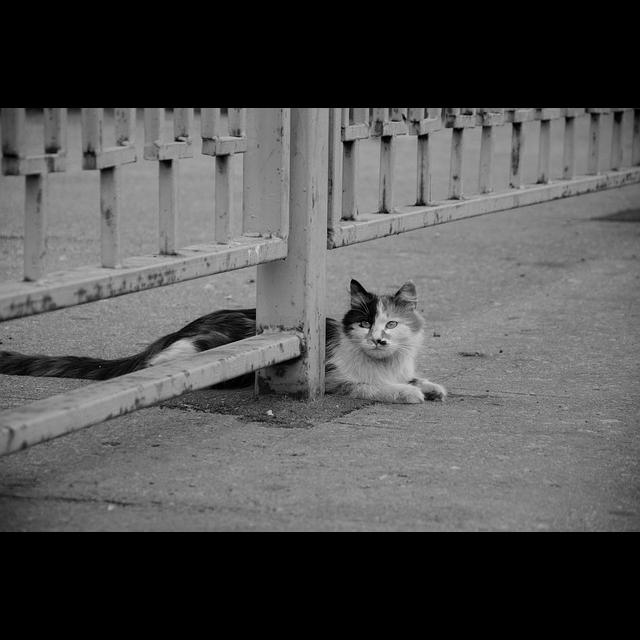animals: (0, 309, 258, 377), (327, 280, 448, 403)
